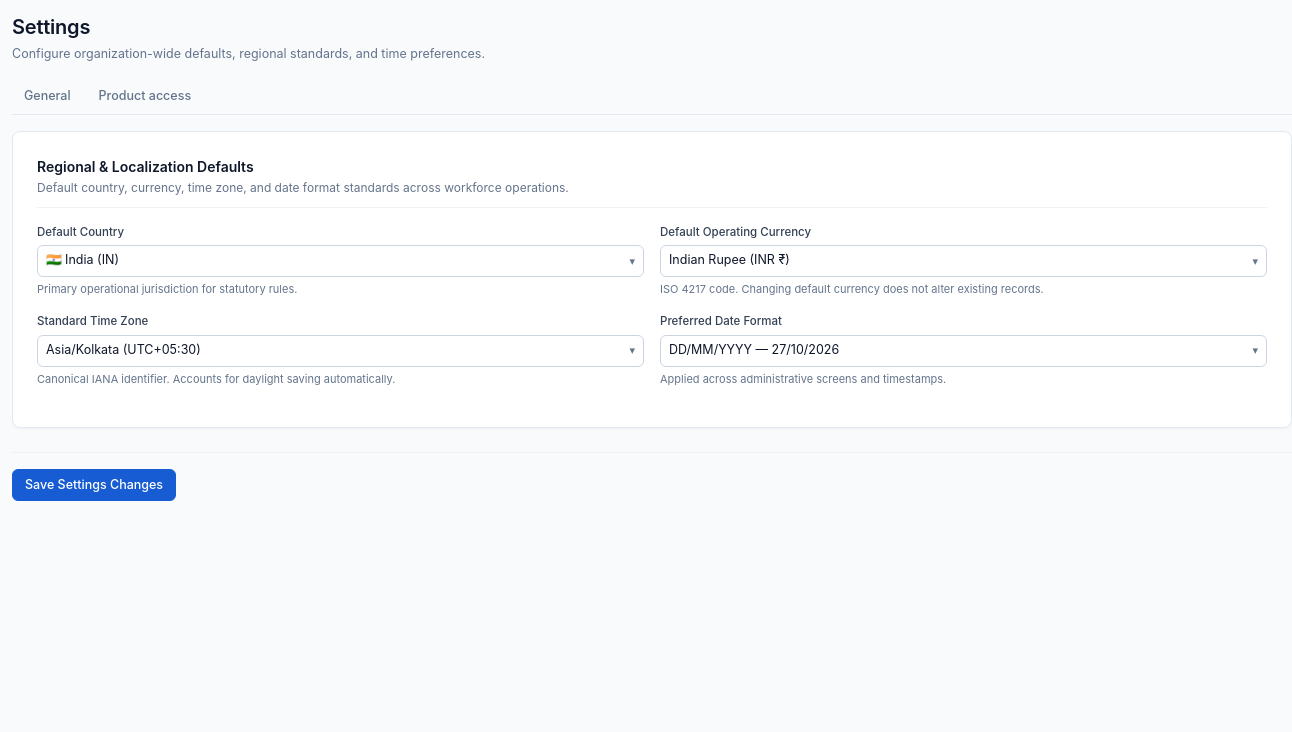
Test: AdminPage - Organization Settings Form › displays dirty indicator when field is modified and clears on successful save
Expected: the heading "Regional & Localization Defaults" is shown, [37,158,254,174]
Expected: the text "Unsaved changes" is not shown
Modify default country
Click the dropdown named "default country".
click(82, 260)  # box [37,245,644,277]
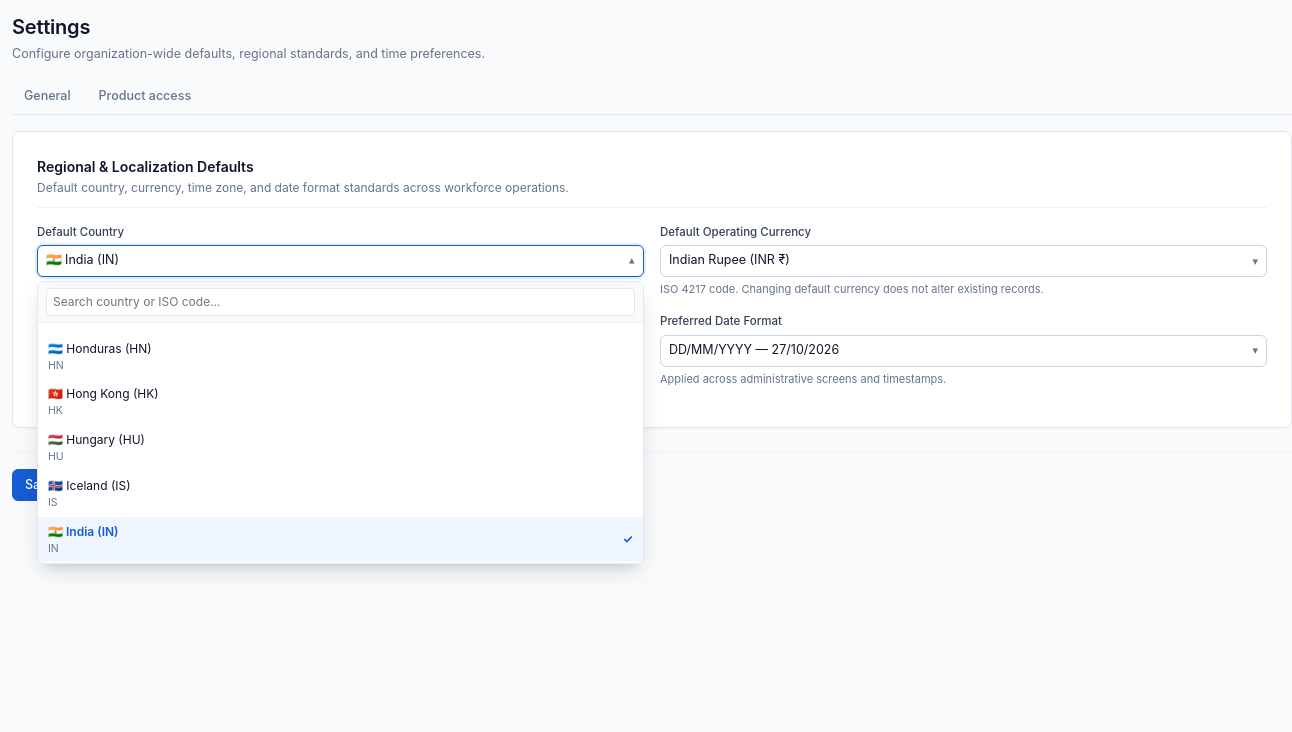
Type "United States" into the field with placeholder "Search country or ISO code...".
click(340, 302); type("United States")  # box [46,288,635,316]
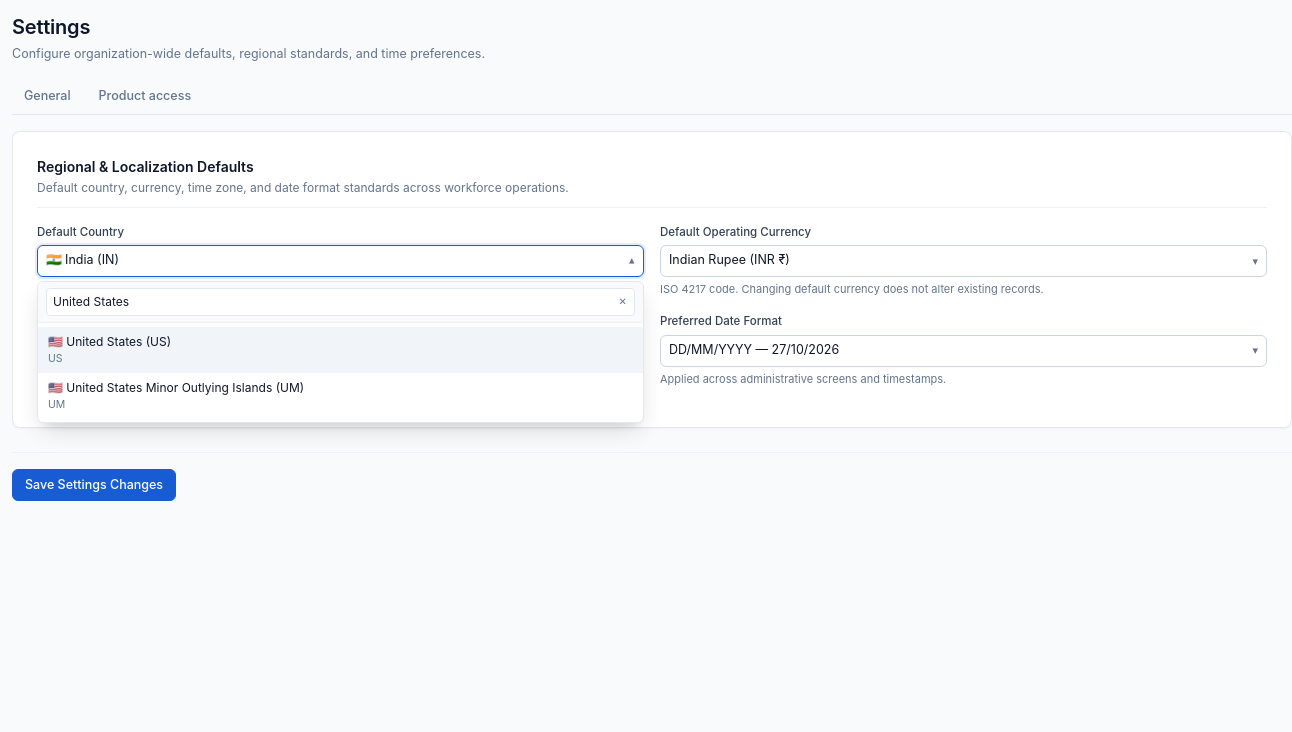
Click the text "🇺🇸 United States (US)".
click(110, 341)  # box [48,334,171,349]
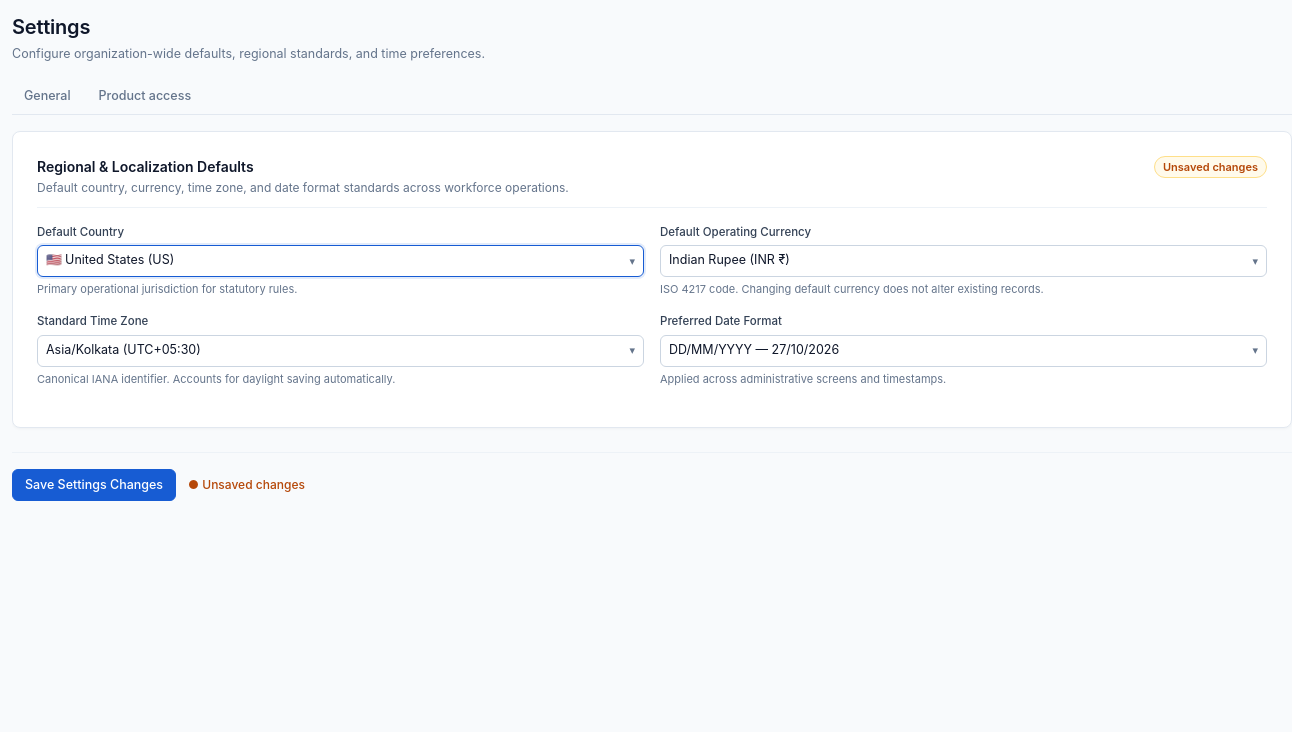
Expected: the text "Unsaved changes" is shown, [1154,156,1267,178]
Save changes
Click the button "Save Settings Changes".
click(94, 485)  # box [12,469,176,501]
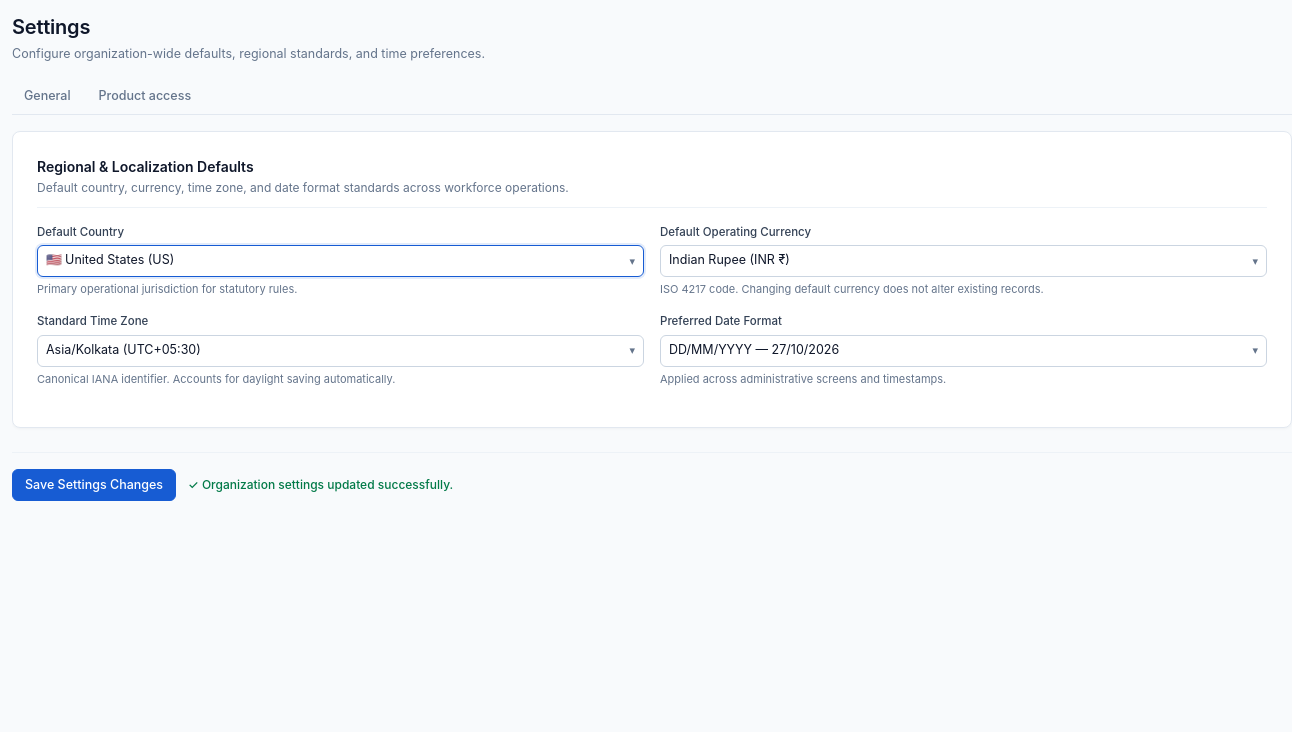
Expected: the text "✓ Organization settings updated successfully." is shown, [188,476,453,494]
Expected: the text with test id "settings-dirty-indicator" is gone
